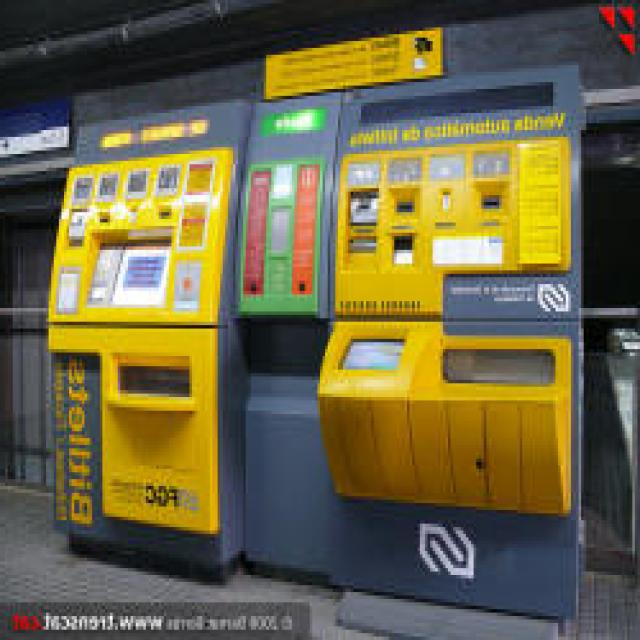maquina-tickets: (42, 91, 241, 589)
